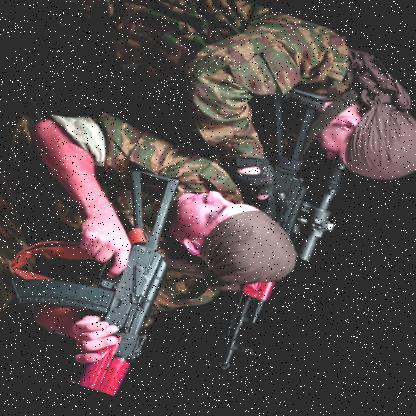rifle: (174, 70, 373, 388), (0, 130, 215, 405)
